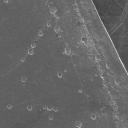corrosion: (49, 5, 59, 19), (62, 46, 73, 57), (19, 74, 28, 83), (90, 112, 98, 121), (27, 47, 34, 57), (5, 103, 13, 111), (74, 120, 83, 127), (26, 104, 33, 112), (37, 29, 44, 37), (56, 71, 63, 79), (54, 25, 61, 33), (46, 105, 53, 112)
